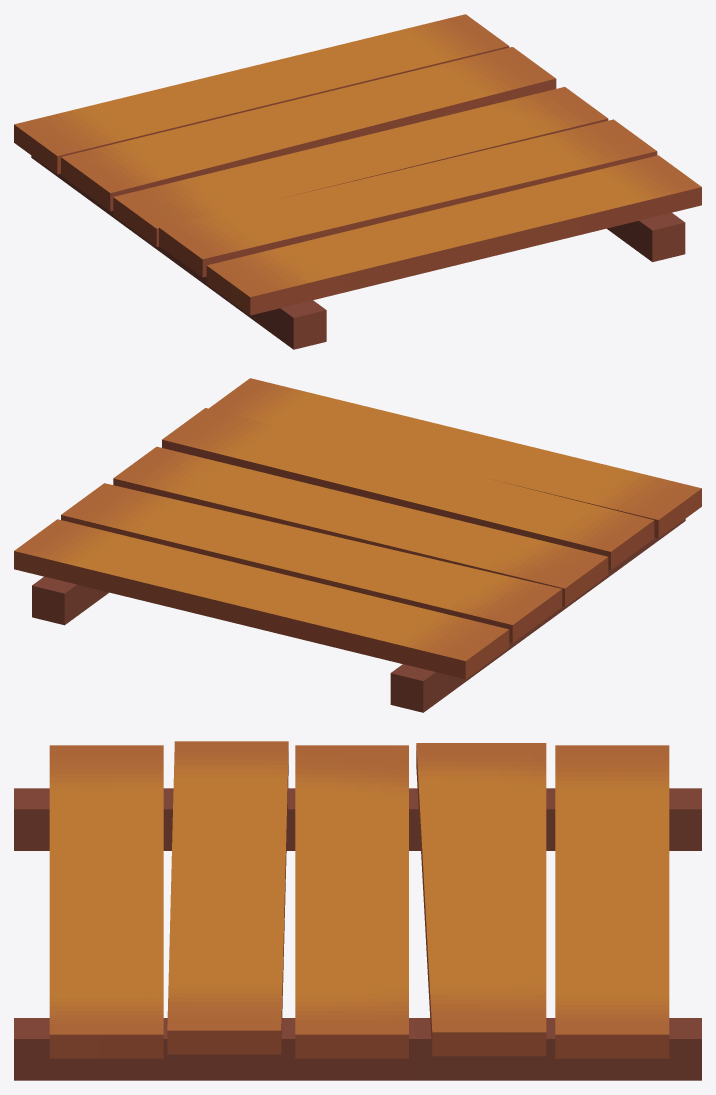
File: platform_wood.gltf
3 views of the same model, one above another, from view 1: azimuth 30°, elevation 25°; view 2: azimuth 150°, elevation 25°; view 3: azimuth 270°, elevation 25° (orthographic). The views are drawn at different scales.
Parts seen in each view (by area): view 1: PlatformWood; view 2: PlatformWood; view 3: PlatformWood.
Boxes of the visible parts, box(x1,y1,x2,y2) form: PlatformWood: box(14, 14, 701, 349); PlatformWood: box(14, 378, 701, 712); PlatformWood: box(14, 741, 701, 1080).
Bounding box in the file's own units: 0.9931 × 0.1111 × 0.9985.
Materials: 1 (1 with a texture image).
